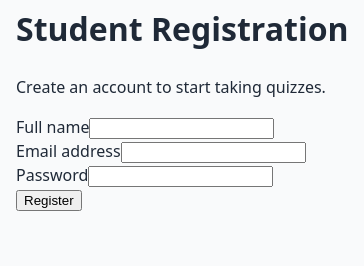
Test case: OQS-04: Registration page › TC-AUTH-02 shows the server error for a duplicate email
The width and height of the screenshot is (364, 266).
Type "Asha Rao" into the field labelled "Full name" at point(182, 128), box [90, 118, 274, 139]
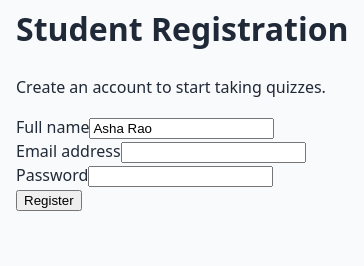
Type "asha@example.com" into the field labelled "Email address" at point(213, 152), box [120, 142, 306, 163]
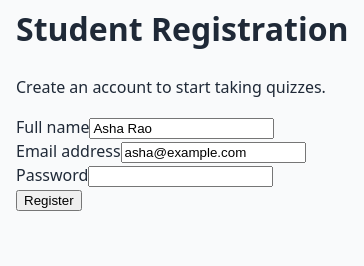
Type "SecurePass123" into the password field labelled "Password" at point(181, 176), box [88, 166, 273, 187]
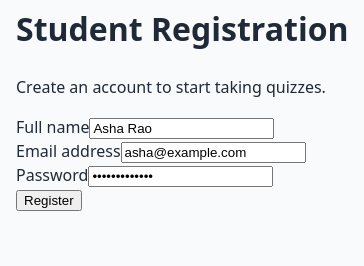
Click the button "Register" at point(49, 200), box [16, 190, 82, 211]
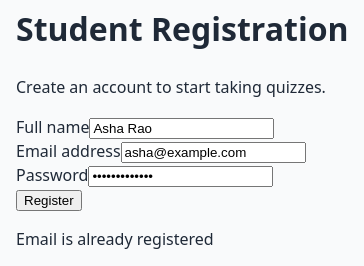
Now the message reads "Email is already registered", box [16, 228, 214, 250]
